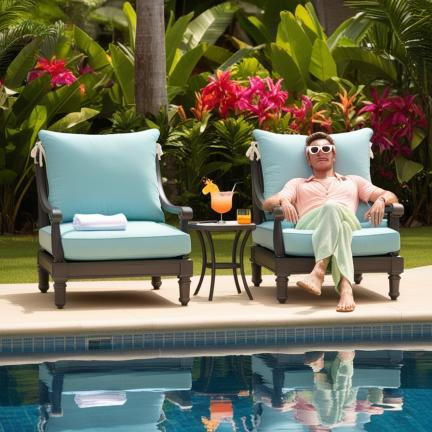guest on chair: (249, 128, 403, 311)
occupied chair: (33, 129, 192, 308)
